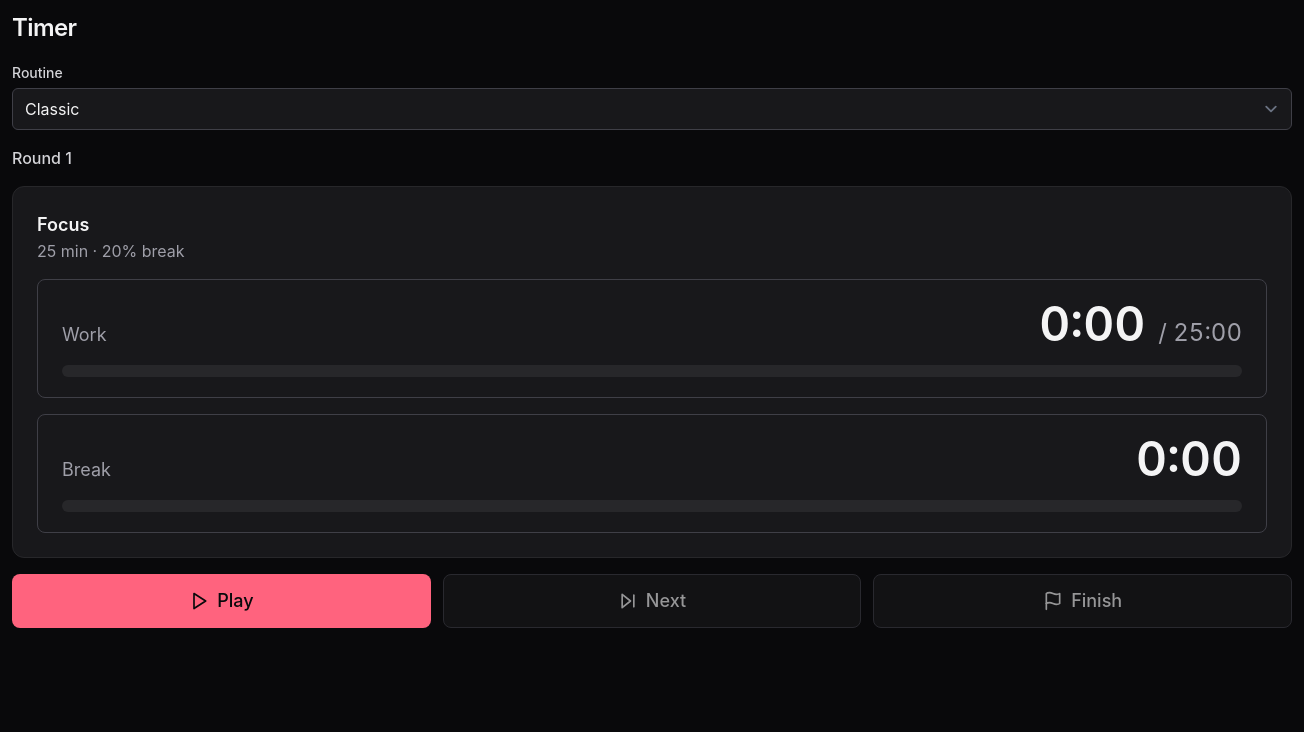
Test: running a routine from the Timer screen › stops counting while paused, and goes on from the same time after Play
The width and height of the screenshot is (1304, 732).
Click the button "Play": (221, 601) [12,574,431,628]
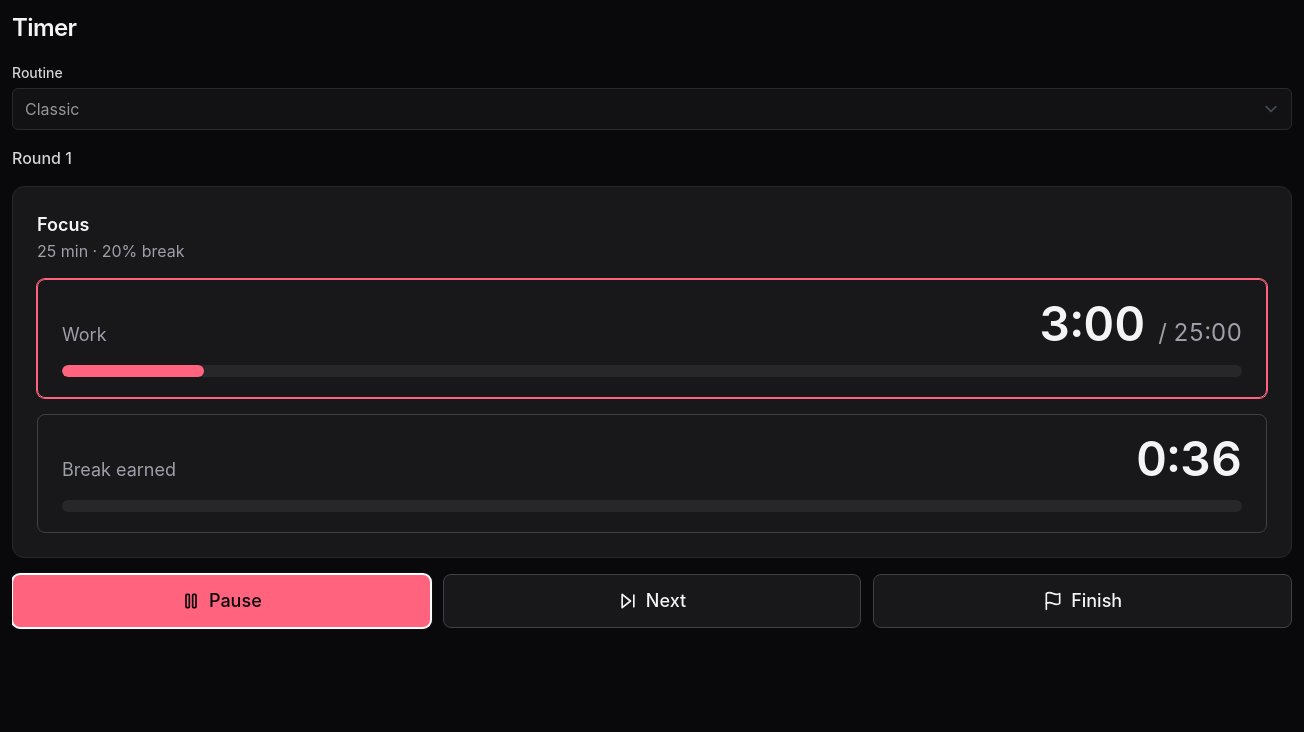
Click the button "Pause": (221, 601) [12,574,431,628]
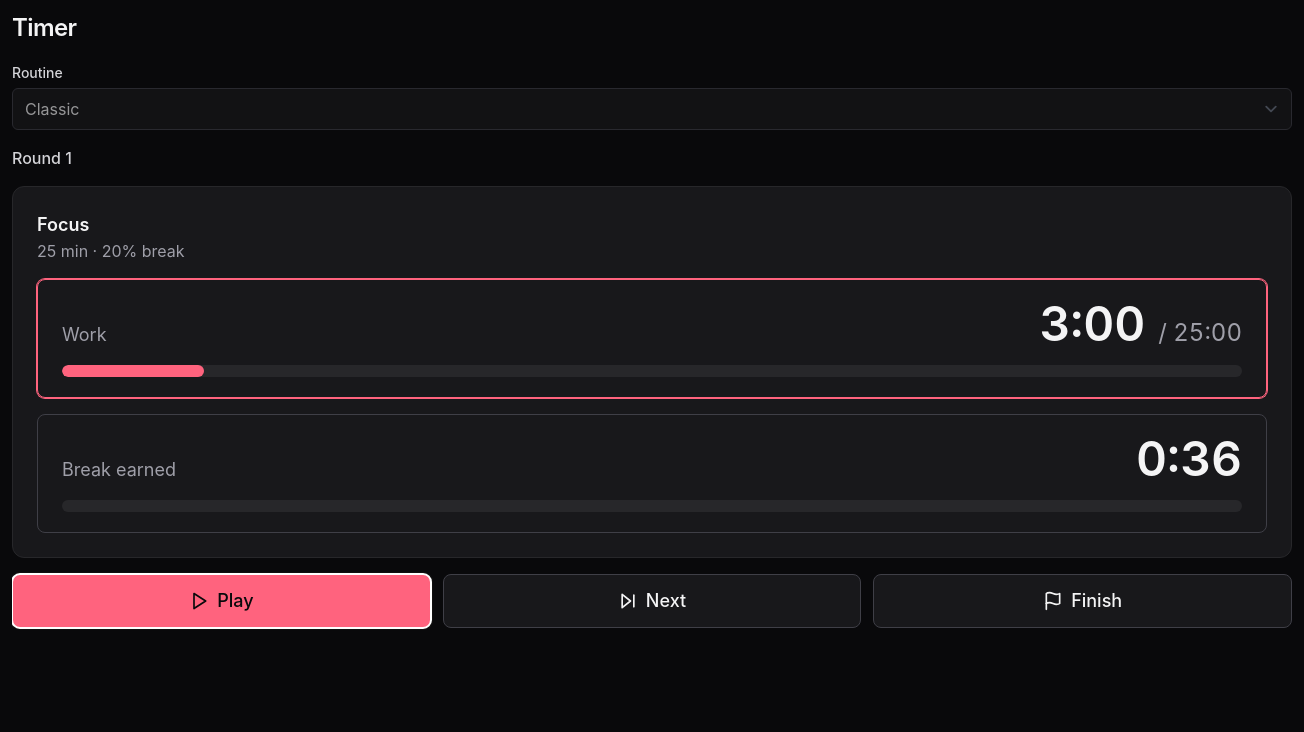
Expected: the button "Play" is shown
Click the button "Play": (221, 601) [12,574,431,628]
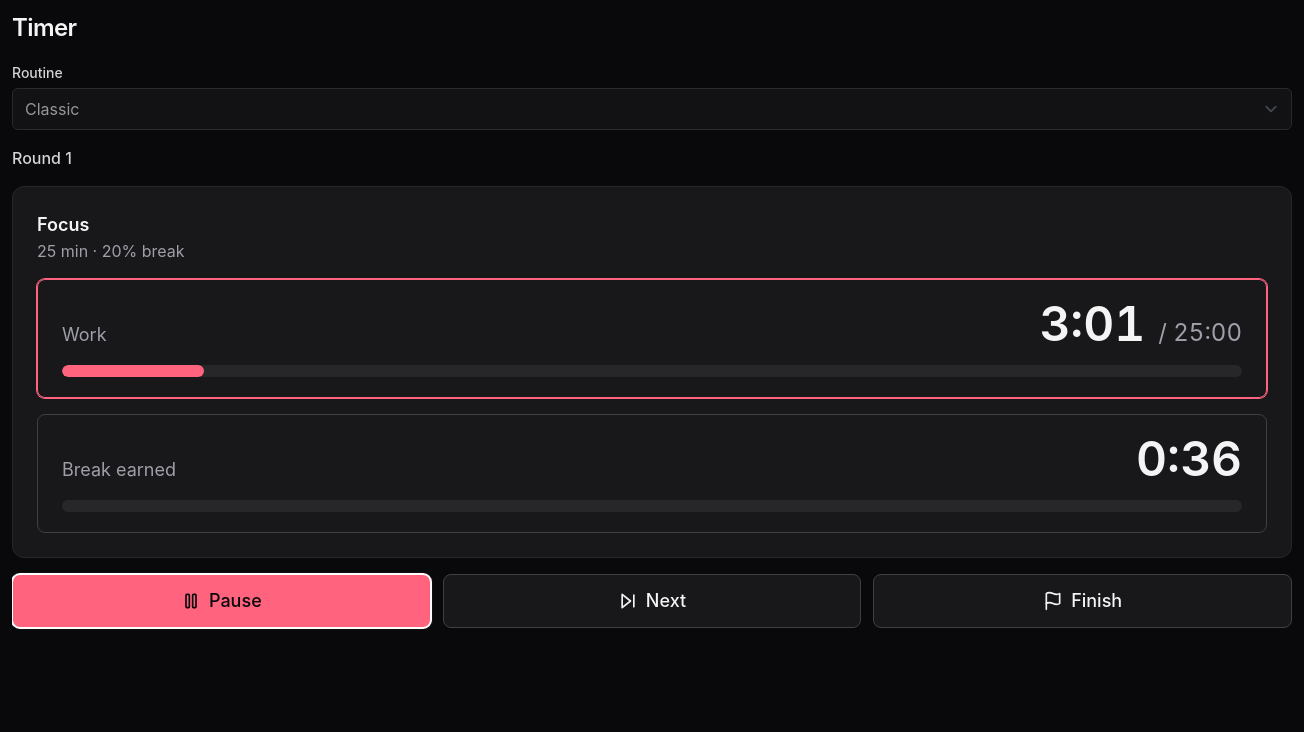
Expected: the element "Work 3:01 / 25:00" is shown, [37,279,1267,398]
